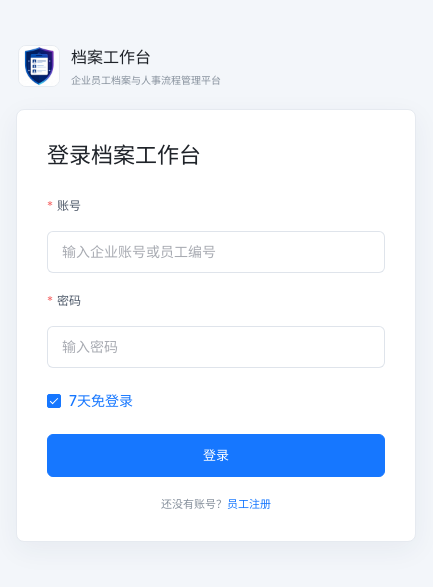
Test: LoginView › shows a clear inline message when the backend cannot be reached
Type "local-account" into the field with placeholder "输入企业账号或员工编号".
click(216, 252); type("local-account")  # box left=62, top=233, right=370, bottom=271
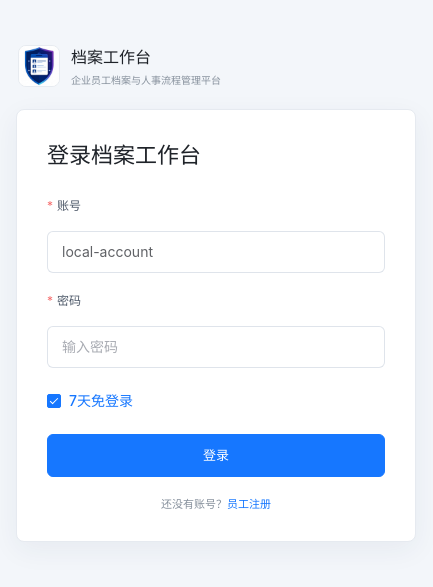
Type "local-password" into the password field labelled "密码".
click(216, 347); type("local-password")  # box left=62, top=328, right=370, bottom=366
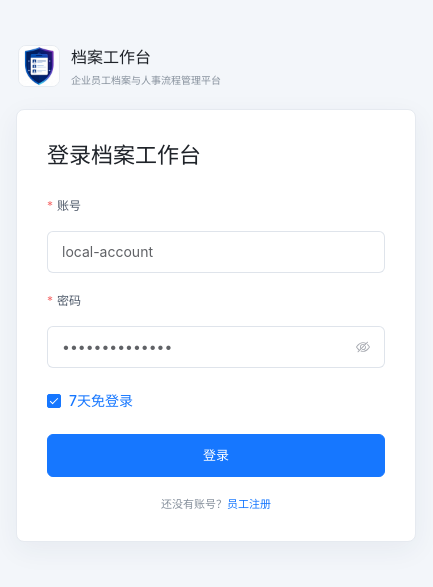
Submit the form, box left=47, top=195, right=385, bottom=477
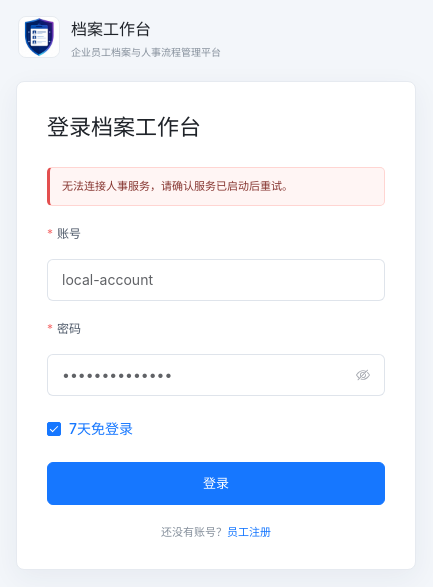
Expected: the message "无法连接人事服务，请确认服务已启动后重试。" is shown, left=47, top=167, right=385, bottom=206
